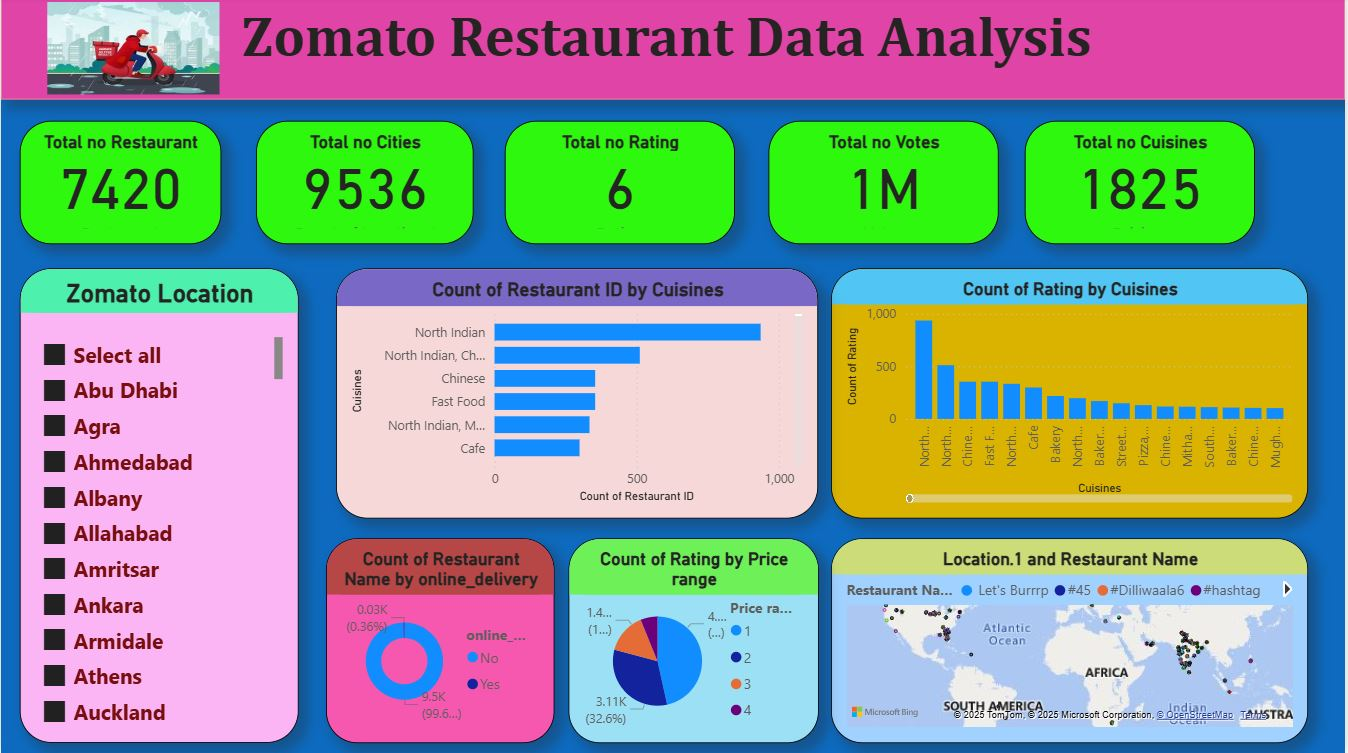

This screenshot's page, from the dashboard's own definition file:
{"tool":"powerbi","page":{"name":"Page 1","canvas":[1280,720],"ordinal":0},"visuals":[{"type":"card","title":"Total no Restaurant","fields":{"Values":["zomato.Total_Restaurants"]},"box":[17.9,117.9,191.7,117.9],"z":0},{"type":"donutChart","fields":{"Category":["zomato.online_delivery"],"Y":["CountNonNull(zomato.Restaurant Name)"]},"box":[309.5,515.5,217.9,195.2],"z":1000},{"type":"map","fields":{"Category":["zomato.Location.1"],"Series":["zomato.Restaurant Name"]},"box":[790.5,515.5,454.8,195.2],"z":2000},{"type":"textbox","box":[0,0,1279.8,97.6],"z":3000},{"type":"card","title":"Total no Cities","fields":{"Values":["CountNonNull(zomato.Location.1)"]},"box":[242.9,117.9,207.1,117.9],"z":4000},{"type":"card","title":"Total no Rating","fields":{"Values":["Count(zomato.Rating)"]},"box":[479.8,117.9,219,117.9],"z":5000},{"type":"card","title":"Total no Votes","fields":{"Values":["Sum(zomato.Votes)"]},"box":[731,117.9,219,117.9],"z":6000},{"type":"card","title":"Total no Cuisines","fields":{"Values":["Count(zomato.Cuisines)"]},"box":[975,117.9,219,117.9],"z":7000},{"type":"slicer","title":"Zomato Location","fields":{"Values":["zomato.Location.1"]},"box":[17.9,258.3,265.5,452.4],"z":8000},{"type":"lineStackedColumnComboChart","fields":{"Category":["zomato.Cuisines"],"Y":["CountNonNull(zomato.Rating)"]},"box":[790.5,258.3,454.8,238.1],"z":9000},{"type":"clusteredBarChart","fields":{"Category":["zomato.Cuisines"],"Y":["CountNonNull(zomato.Restaurant ID)"]},"box":[319,258.3,459.5,238.1],"z":9001},{"type":"pieChart","fields":{"Category":["zomato.Price range"],"Y":["CountNonNull(zomato.Rating)"]},"box":[540.5,515.5,238.1,195.2],"z":9002},{"type":"image","box":[39.3,0,173.8,97.6],"z":9003}]}

Visuals, with their boxes in screenshot pixels (x1, y1, x2, y2), scaled from the page's 1280x720 canvas onto the 1348x753 screenshot:
"Total no Restaurant" card: (19,123,221,247)
donutChart - zomato.online_delivery x CountNonNull(zomato.Restaurant Name): (326,539,555,743)
map - zomato.Location.1 x zomato.Restaurant Name: (832,539,1311,743)
textbox: (0,0,1347,102)
"Total no Cities" card: (256,123,474,247)
"Total no Rating" card: (505,123,736,247)
"Total no Votes" card: (770,123,1000,247)
"Total no Cuisines" card: (1027,123,1257,247)
"Zomato Location" slicer: (19,270,298,743)
lineStackedColumnComboChart - zomato.Cuisines x CountNonNull(zomato.Rating): (832,270,1311,519)
clusteredBarChart - zomato.Cuisines x CountNonNull(zomato.Restaurant ID): (336,270,820,519)
pieChart - zomato.Price range x CountNonNull(zomato.Rating): (569,539,820,743)
image: (41,0,224,102)
